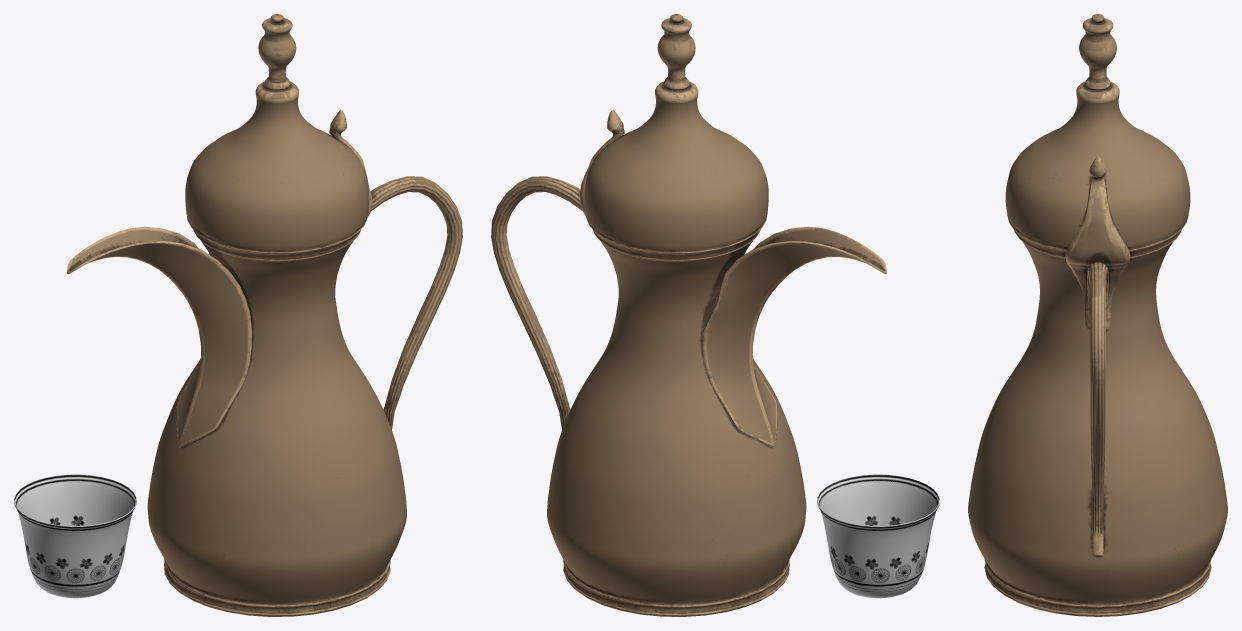
The model's file is saudi_dallah.glb.
The picture shows the model from 3 angles, left to right: view 1: azimuth 30°, elevation 25°; view 2: azimuth 150°, elevation 25°; view 3: azimuth 270°, elevation 25°; orthographic projection.
Visible parts, largest first — view 1: Dallah, Line001; view 2: Dallah, Line001; view 3: Dallah.
Part boxes in pixels (x1=…): Dallah: x1=67, y1=14, x2=462, y2=616; Line001: x1=14, y1=474, x2=136, y2=598; Dallah: x1=491, y1=14, x2=886, y2=616; Line001: x1=817, y1=474, x2=939, y2=598; Dallah: x1=968, y1=14, x2=1227, y2=616.
Size of the model in its own units: 1.36 by 1.64 by 0.6974.
Materials: 1 (1 with a texture image).
